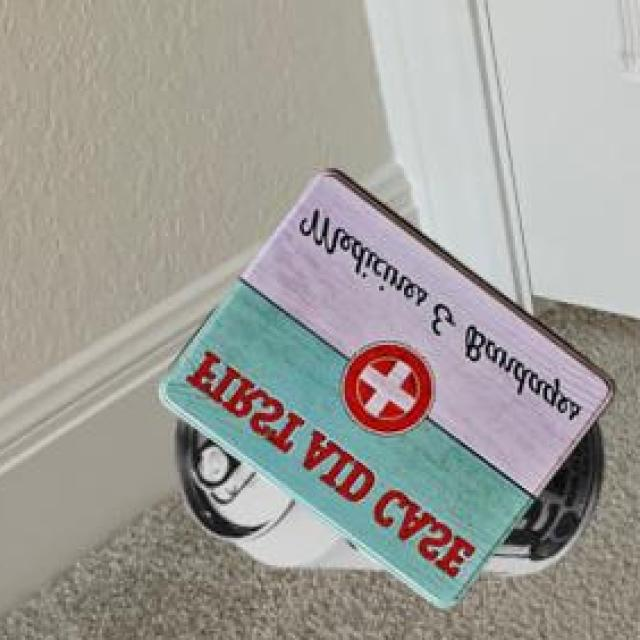logam: (162, 167, 618, 605), (180, 412, 607, 573)
